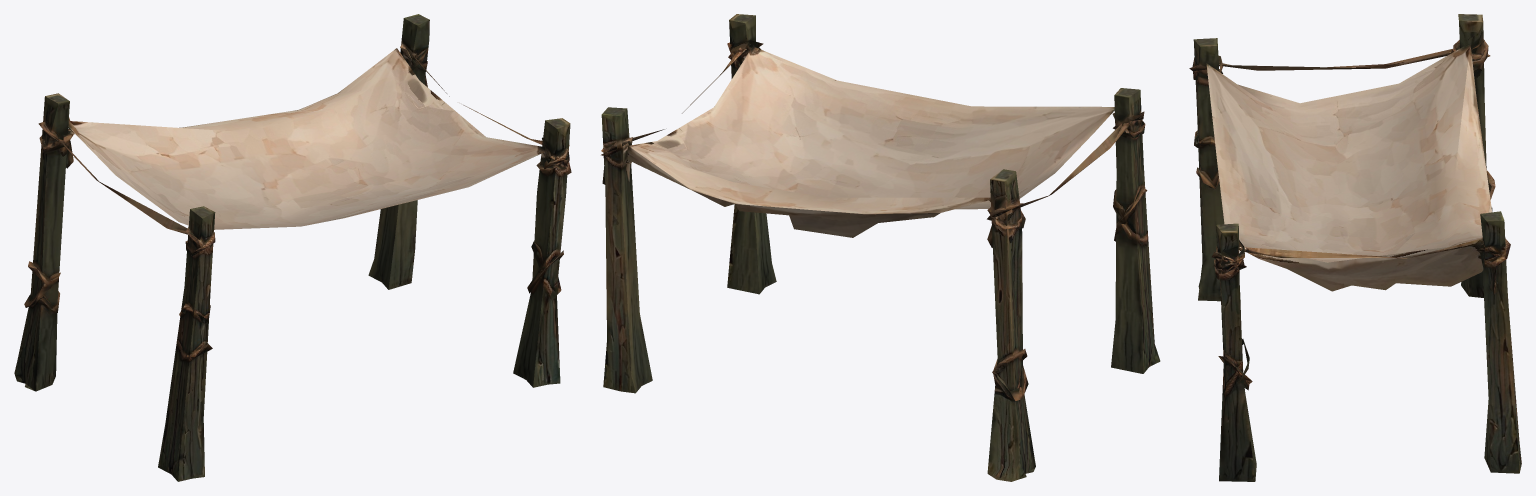
Rendered from act1_kit_v1_canopy_frame.glb.
The picture shows the model from 3 angles, left to right: view 1: azimuth 30°, elevation 25°; view 2: azimuth 150°, elevation 25°; view 3: azimuth 270°, elevation 25°; orthographic projection. The views are drawn at different scales.
Visible parts, largest first — view 1: A13_2_canopy_frame; view 2: A13_2_canopy_frame; view 3: A13_2_canopy_frame.
Boxes of the visible parts, <box> form: A13_2_canopy_frame: <box>14,14,571,481</box>; A13_2_canopy_frame: <box>601,14,1160,481</box>; A13_2_canopy_frame: <box>1189,14,1521,481</box>.
Size of the model in its own units: 1 by 0.643 by 0.6857.
Materials: 1 (1 with a texture image).
